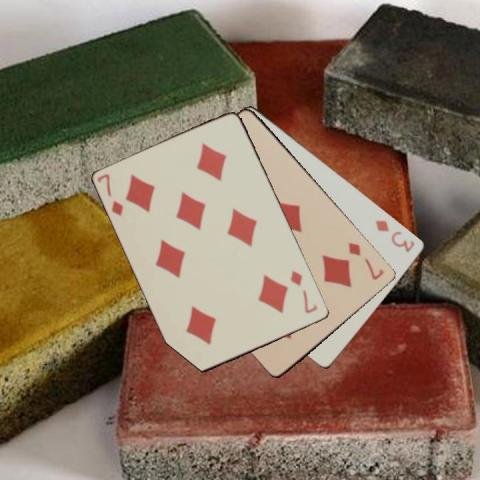3d: (373, 216, 416, 254)
7d: (346, 240, 386, 282), (288, 268, 320, 316), (95, 171, 125, 218)
